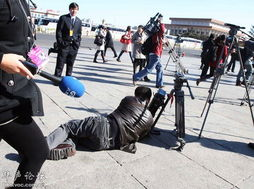fall: (39, 81, 162, 165)
